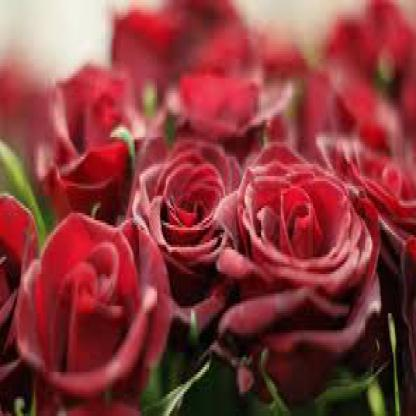Rose-Mawar: (1, 55, 416, 414)
